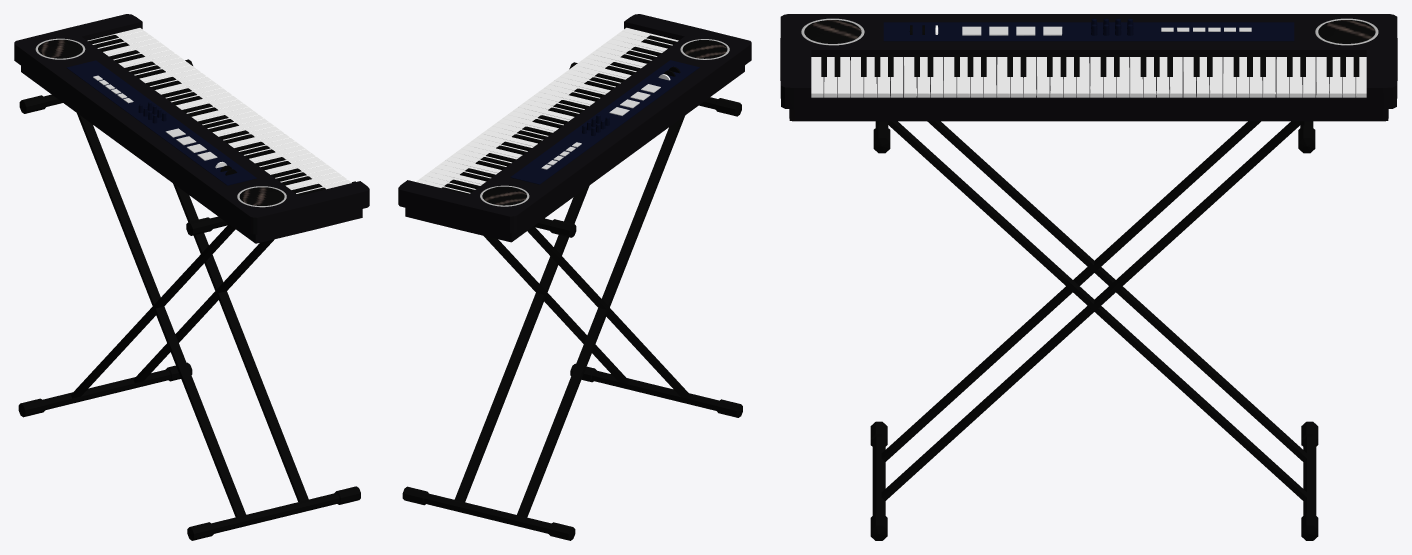
Rendered from Tastiera_.fbx.
3 renders of one model, left to right at view 1: azimuth 30°, elevation 25°; view 2: azimuth 150°, elevation 25°; view 3: azimuth 270°, elevation 25°, orthographic. The views are drawn at different scales.
Parts seen in each view (by area): view 1: cilindri; view 2: cilindri; view 3: cilindri.
Boxes of the visible parts, left/top/right/bottom form: cilindri: left=14, top=14, right=369, bottom=540; cilindri: left=398, top=14, right=751, bottom=540; cilindri: left=780, top=14, right=1397, bottom=540.
Size of the model in its own units: 41.33 by 81.79 by 102.
